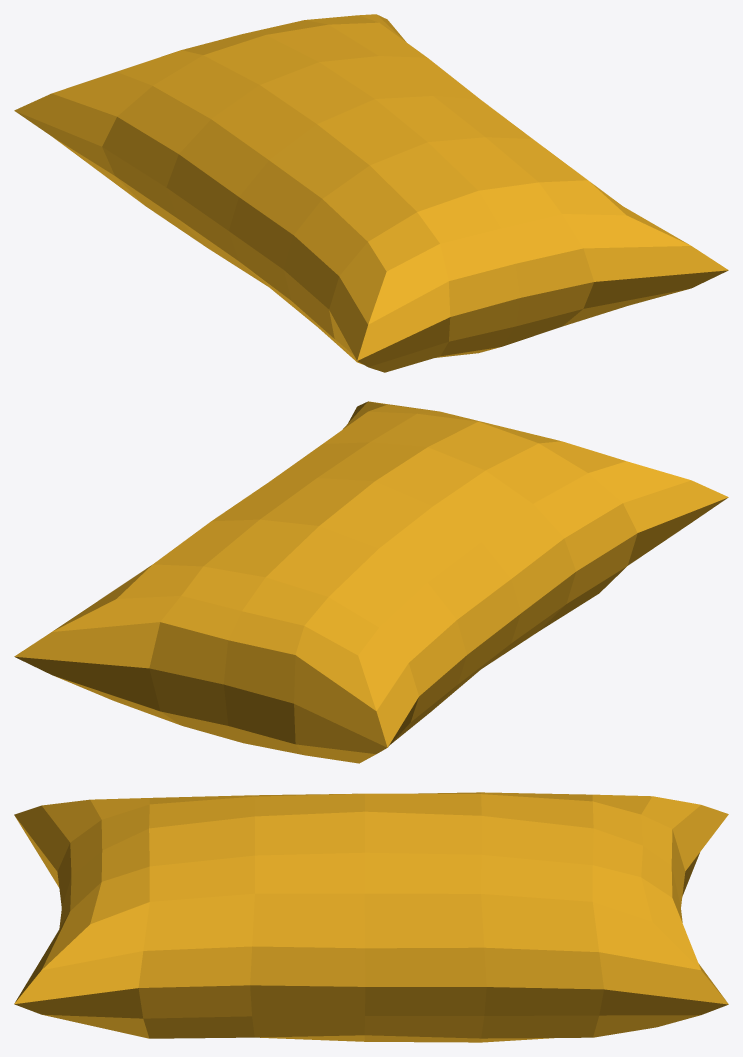
File: sack_1.fbx
The picture shows the model from 3 angles, top to bottom: view 1: azimuth 30°, elevation 25°; view 2: azimuth 150°, elevation 25°; view 3: azimuth 270°, elevation 25°; orthographic projection. The views are drawn at different scales.
Parts seen in each view (by area): view 1: sack_2; view 2: sack_2; view 3: sack_2.
Part boxes in pixels (x1=…): sack_2: x1=14, y1=14, x2=728, y2=372; sack_2: x1=14, y1=401, x2=728, y2=763; sack_2: x1=14, y1=792, x2=728, y2=1042.
Size of the model in its own units: 1.23 by 0.6371 by 1.96.
